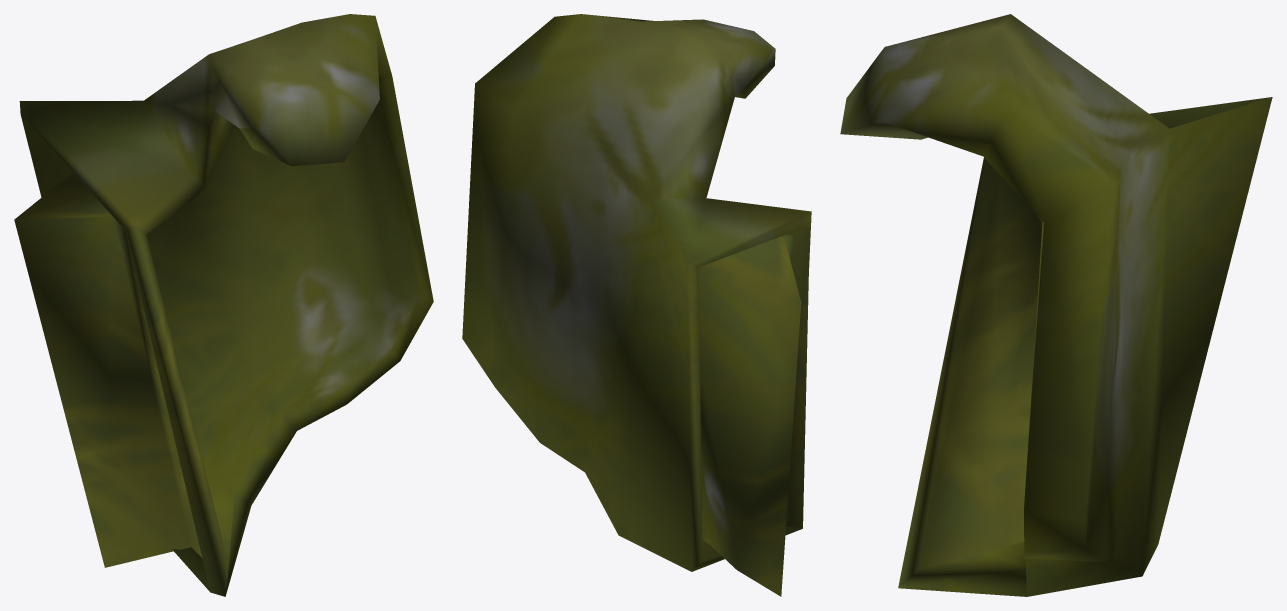
The model's file is Ear.fbx.
The picture shows the model from 3 angles, left to right: view 1: azimuth 30°, elevation 25°; view 2: azimuth 150°, elevation 25°; view 3: azimuth 270°, elevation 25°; orthographic projection. The views are drawn at different scales.
Visible parts, largest first — view 1: Ear; view 2: Ear; view 3: Ear.
Boxes of the visible parts, x1=… form: Ear: x1=14, y1=14, x2=433, y2=596; Ear: x1=462, y1=14, x2=811, y2=596; Ear: x1=840, y1=14, x2=1272, y2=596.
Bounding box in the file's own units: 0.0271 × 0.0364 × 0.0232.
